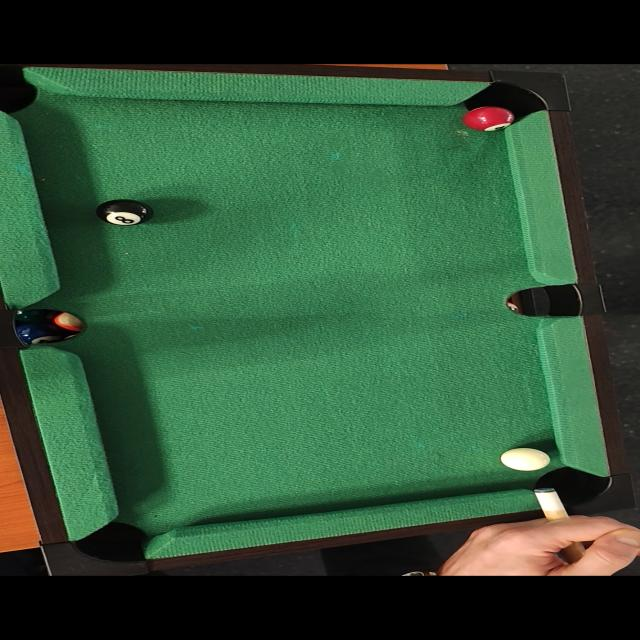cue ball: (490, 444, 556, 471)
other: (456, 101, 520, 132), (91, 198, 156, 228)
